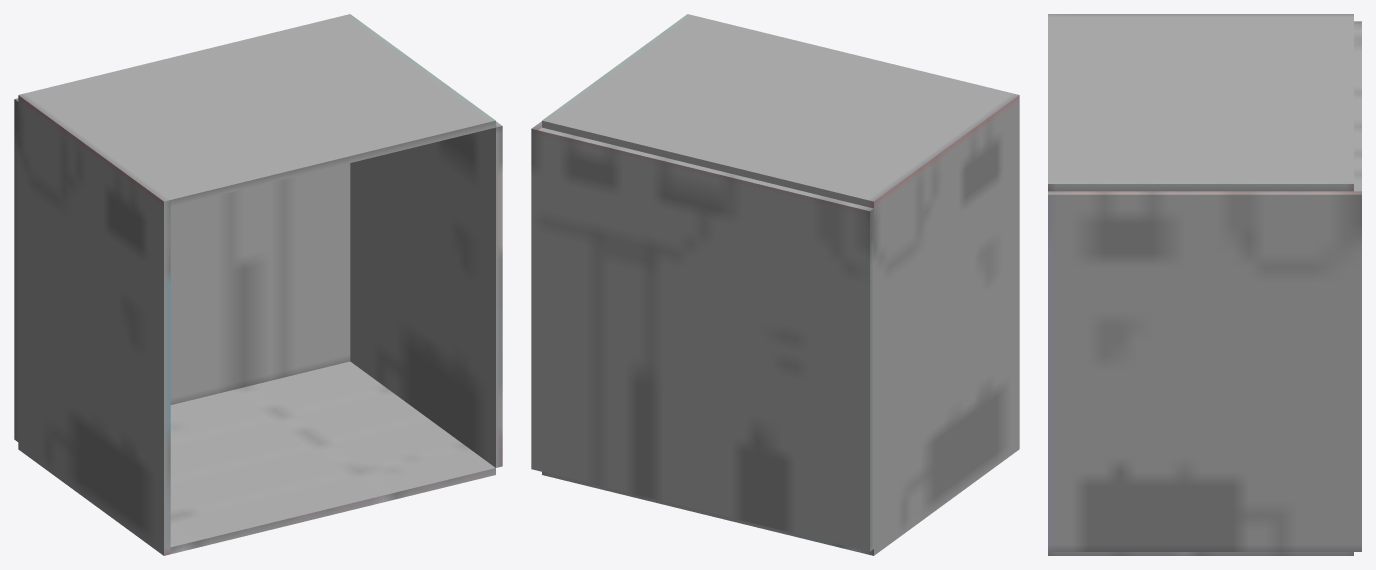
File: BuildingModule_Interior_B_00.fbx
3 renders of one model, left to right at view 1: azimuth 30°, elevation 25°; view 2: azimuth 150°, elevation 25°; view 3: azimuth 270°, elevation 25°, orthographic. The views are drawn at different scales.
Visible parts, largest first — view 1: BuildingModule_Interior_B_00; view 2: BuildingModule_Interior_B_00; view 3: BuildingModule_Interior_B_00.
Part boxes in pixels (x1=…): BuildingModule_Interior_B_00: x1=14, y1=14, x2=502, y2=555; BuildingModule_Interior_B_00: x1=531, y1=14, x2=1019, y2=555; BuildingModule_Interior_B_00: x1=1048, y1=14, x2=1361, y2=555.
Size of the model in its own units: 255 by 255 by 195.
